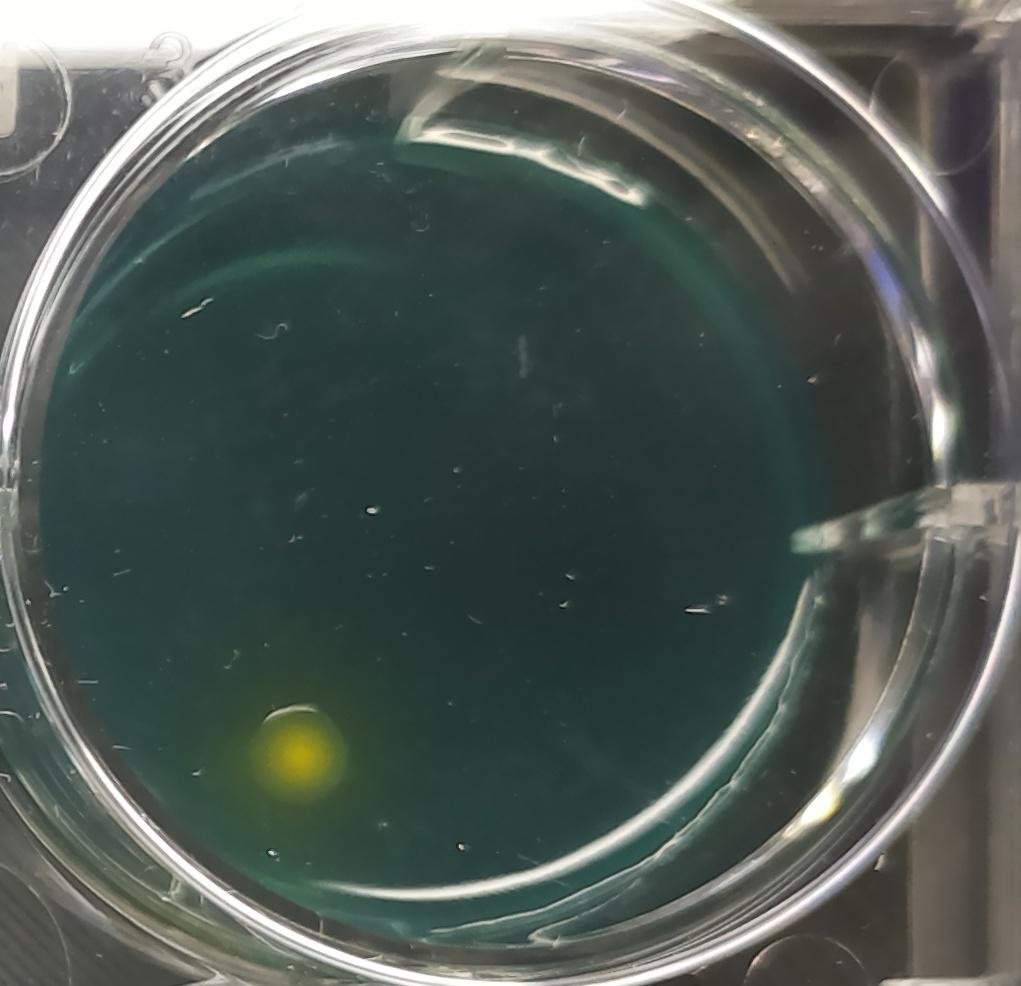vharveyi: (240, 693, 356, 811)
